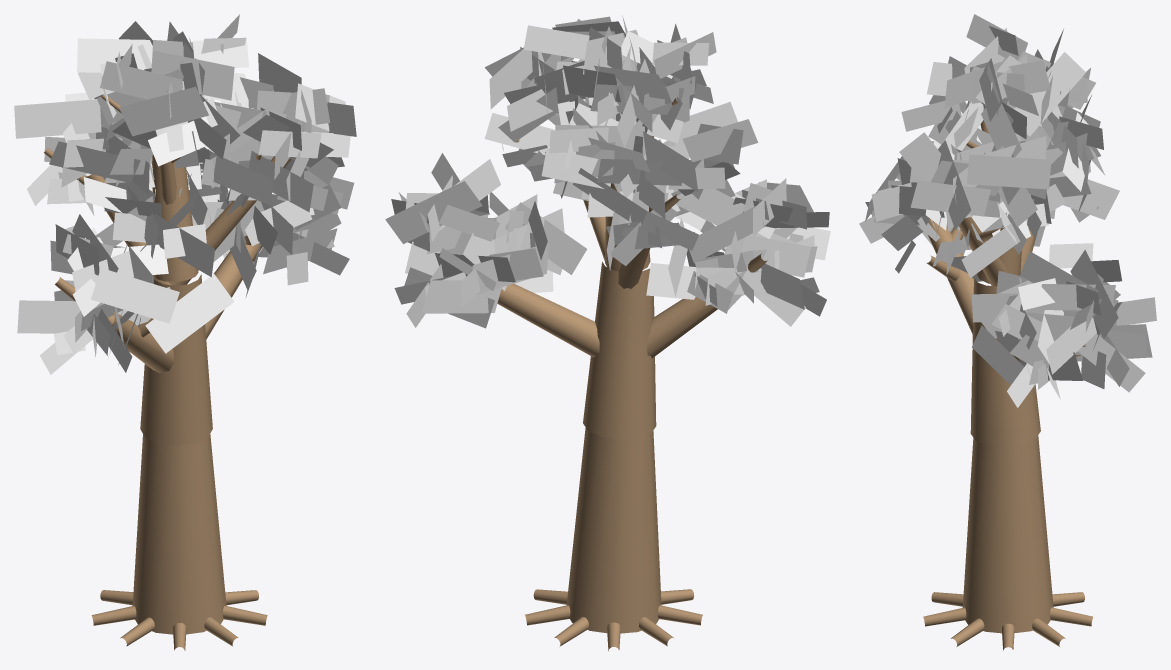
The model's file is oak_04.gltf.
3 renders of one model, left to right at view 1: azimuth 30°, elevation 25°; view 2: azimuth 150°, elevation 25°; view 3: azimuth 270°, elevation 25°, orthographic. The views are drawn at different scales.
Parts seen in each view (by area): view 1: Bark, Leaf_Foliage_0, Leaf_Foliage_4, LeafLight_Foliage_3, Leaf_Foliage_2, LeafLight_Foliage_1; view 2: Bark, LeafLight_Foliage_1, Leaf_Foliage_0, Leaf_Foliage_2, Leaf_Foliage_4, LeafLight_Foliage_3; view 3: Bark, LeafLight_Foliage_1, Leaf_Foliage_4, LeafLight_Foliage_3, Leaf_Foliage_2, Leaf_Foliage_0.
Boxes of the visible parts, x1,y1,x2,y2 form: Bark: (44,94,291,650); Leaf_Foliage_0: (17,192,234,374); Leaf_Foliage_4: (77,14,248,174); LeafLight_Foliage_3: (179,53,356,224); Leaf_Foliage_2: (14,92,208,258); LeafLight_Foliage_1: (191,157,354,297); Bark: (497,98,767,651); LeafLight_Foliage_1: (385,153,586,328); Leaf_Foliage_0: (646,159,830,326); Leaf_Foliage_2: (541,108,758,270); Leaf_Foliage_4: (523,15,737,154); LeafLight_Foliage_3: (484,19,620,199); Bark: (923,120,1092,650); LeafLight_Foliage_1: (971,243,1156,407); Leaf_Foliage_4: (901,14,1095,164); LeafLight_Foliage_3: (871,132,1051,277); Leaf_Foliage_2: (1031,68,1119,223); Leaf_Foliage_0: (859,141,1045,281).
Bounding box in the file's own units: 3.41 × 5.17 × 2.46.
